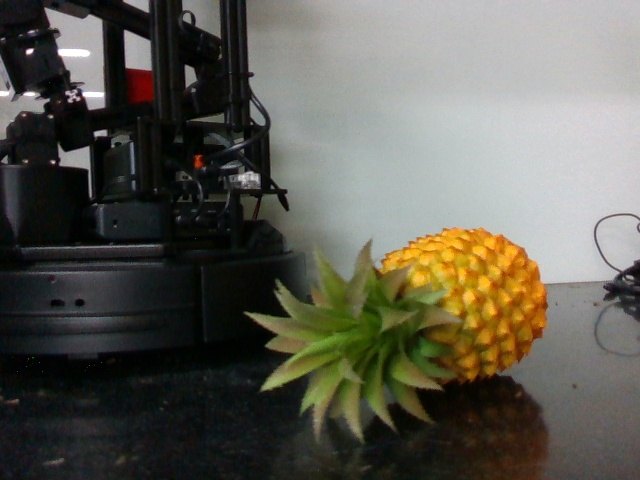pineapple: (259, 222, 548, 428)
